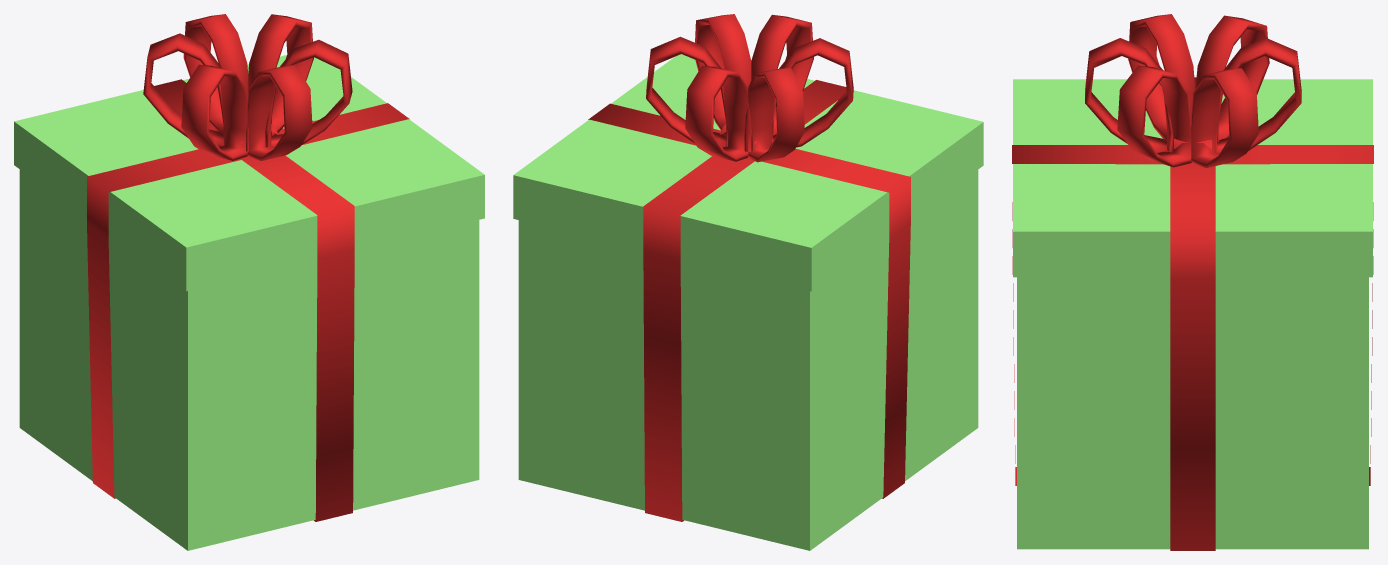
Rendered from preboxrib08270112green.fbx.
3 renders of one model, left to right at view 1: azimuth 30°, elevation 25°; view 2: azimuth 150°, elevation 25°; view 3: azimuth 270°, elevation 25°, orthographic. The views are drawn at different scales.
Parts seen in each view (by area): view 1: Cube, 平面; view 2: Cube, 平面; view 3: Cube, 平面.
Boxes of the visible parts, bbox=[...] form: Cube: bbox=[14, 55, 484, 550]; 平面: bbox=[87, 14, 409, 521]; Cube: bbox=[513, 54, 983, 550]; 平面: bbox=[588, 14, 910, 521]; Cube: bbox=[1013, 79, 1372, 549]; 平面: bbox=[1012, 14, 1373, 550].
Bounding box in the file's own units: 2.07 × 2.71 × 2.06.
